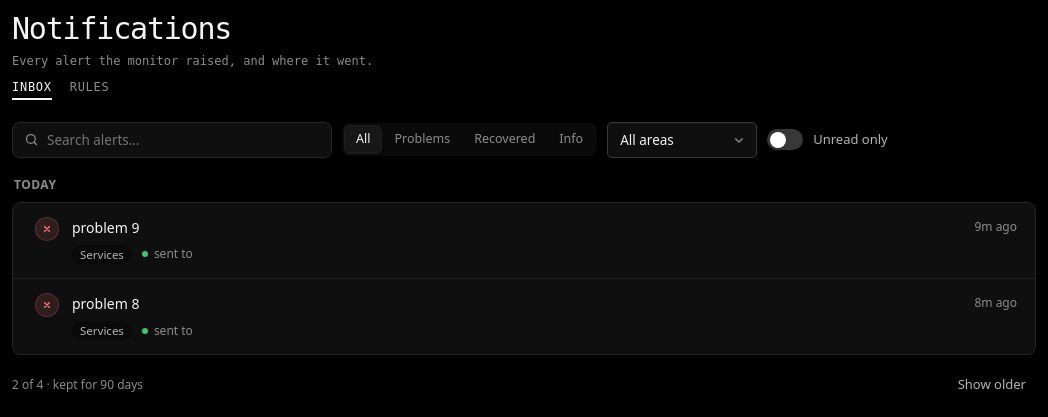
Test: notification inbox › drops an older page asked for under other filters
Click the button "Show older" at (992, 385), box [948,369,1036,401]
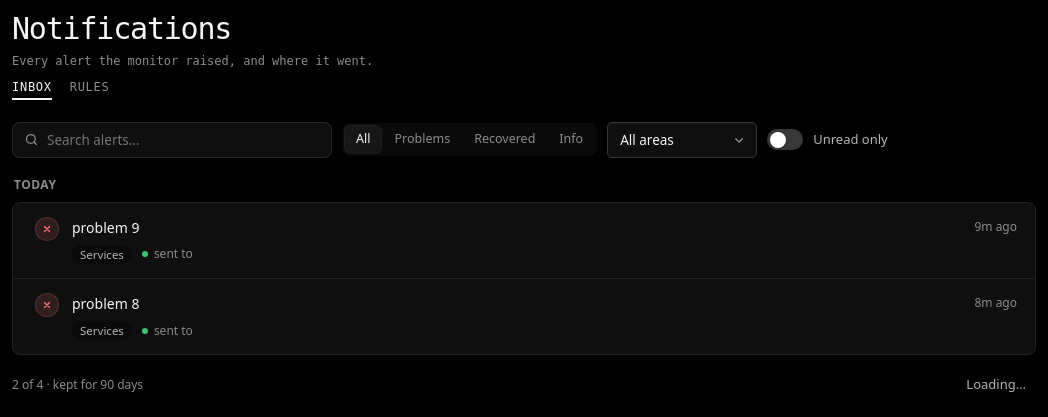
Click the button "Info" at (571, 140), box [548,126,594,153]
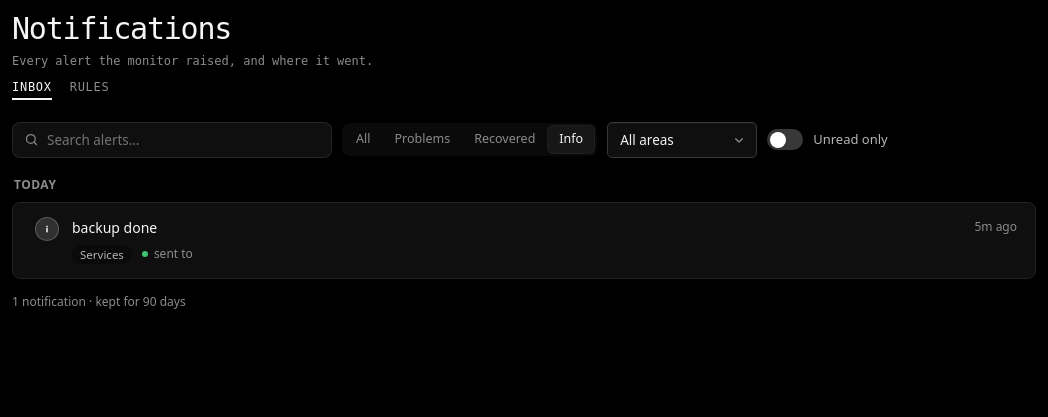
Result: the text "backup done" is shown at [72,218,157,237]
